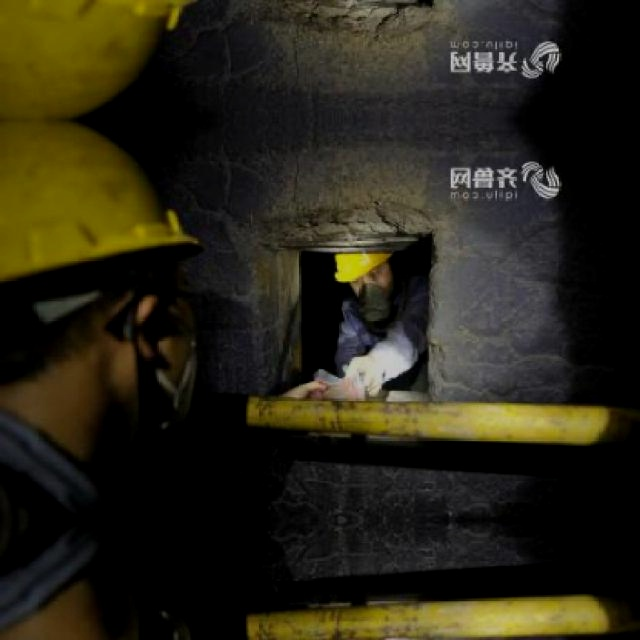helmet: (441, 117, 637, 480), (440, 0, 637, 118), (440, 554, 637, 637), (245, 248, 306, 292)
person: (198, 236, 376, 424)
